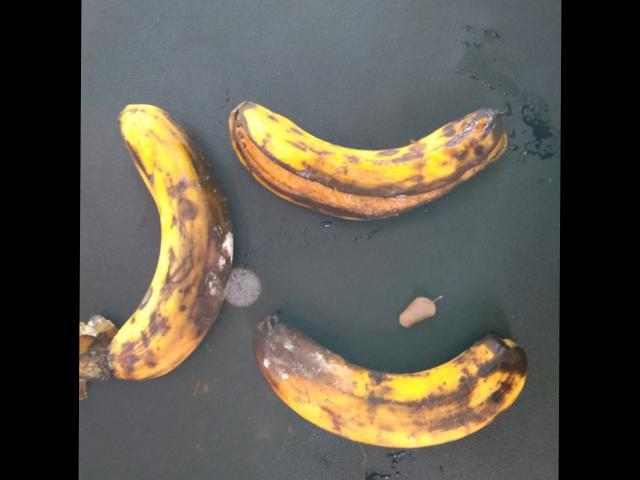rotten: (218, 63, 524, 217), (95, 95, 240, 402), (246, 310, 535, 448)
